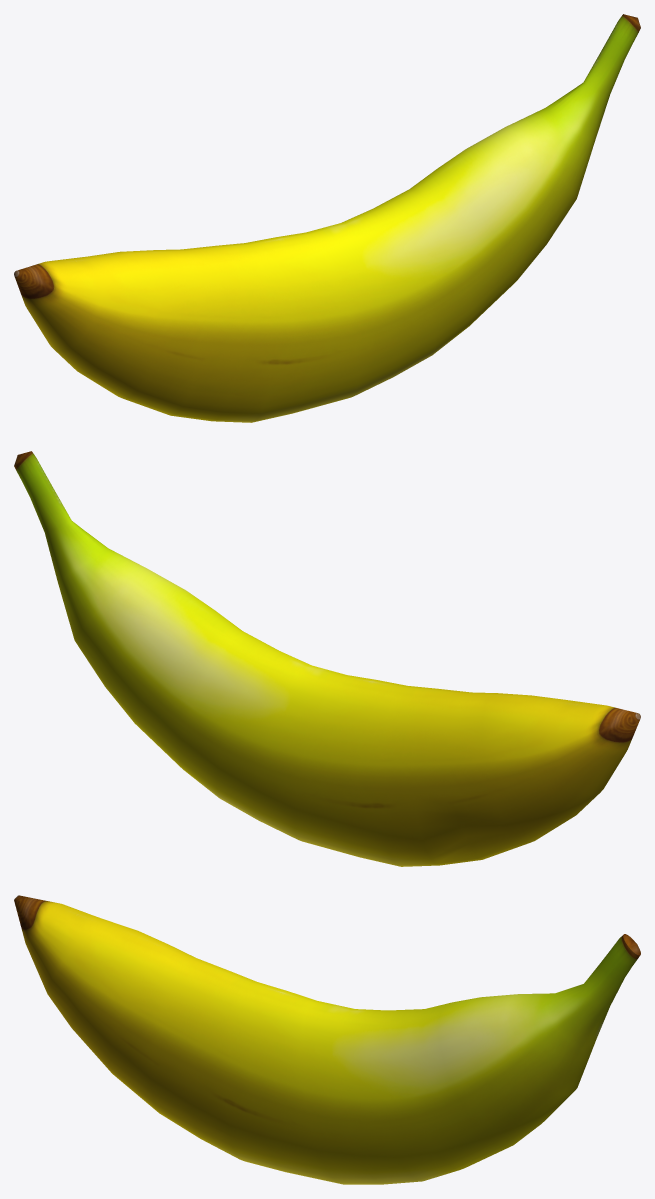
File: banana.dae
3 views of the same model, one above another, from view 1: azimuth 30°, elevation 25°; view 2: azimuth 150°, elevation 25°; view 3: azimuth 330°, elevation 25° (orthographic).
Parts seen in each view (by area): view 1: group_0; view 2: group_0; view 3: group_0.
Boxes of the visible parts, x1,y1,x2,y2 form: group_0: (14,14,640,422); group_0: (14,451,640,866); group_0: (14,895,640,1184).
Bounding box in the file's own units: 47.8 × 6.39 × 23.3.
Materials: 1 (1 with a texture image).
